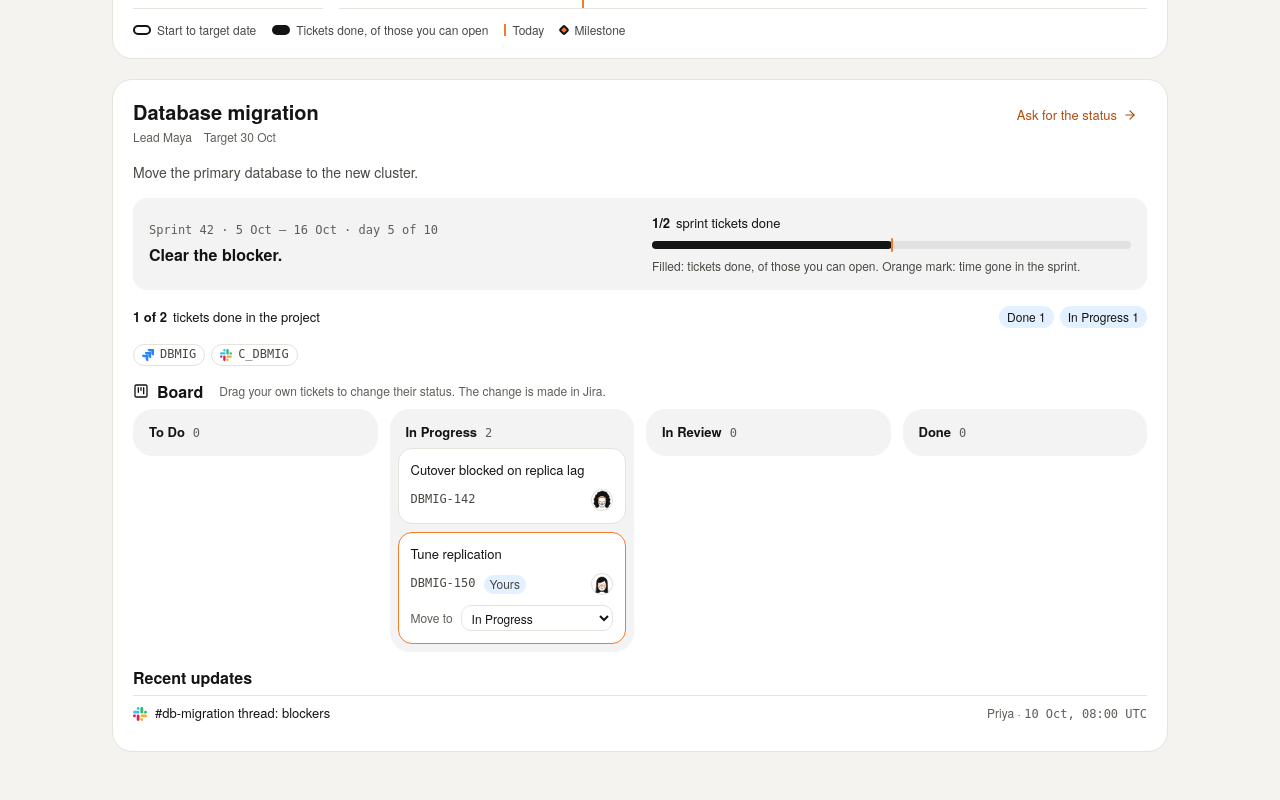
it: puts the card back and says why when the move is refused
(page scrolled)
Select "Done" in the dropdown named "Move DBMIG-150 to" at point(537, 618), box 461,605 -> 613,631
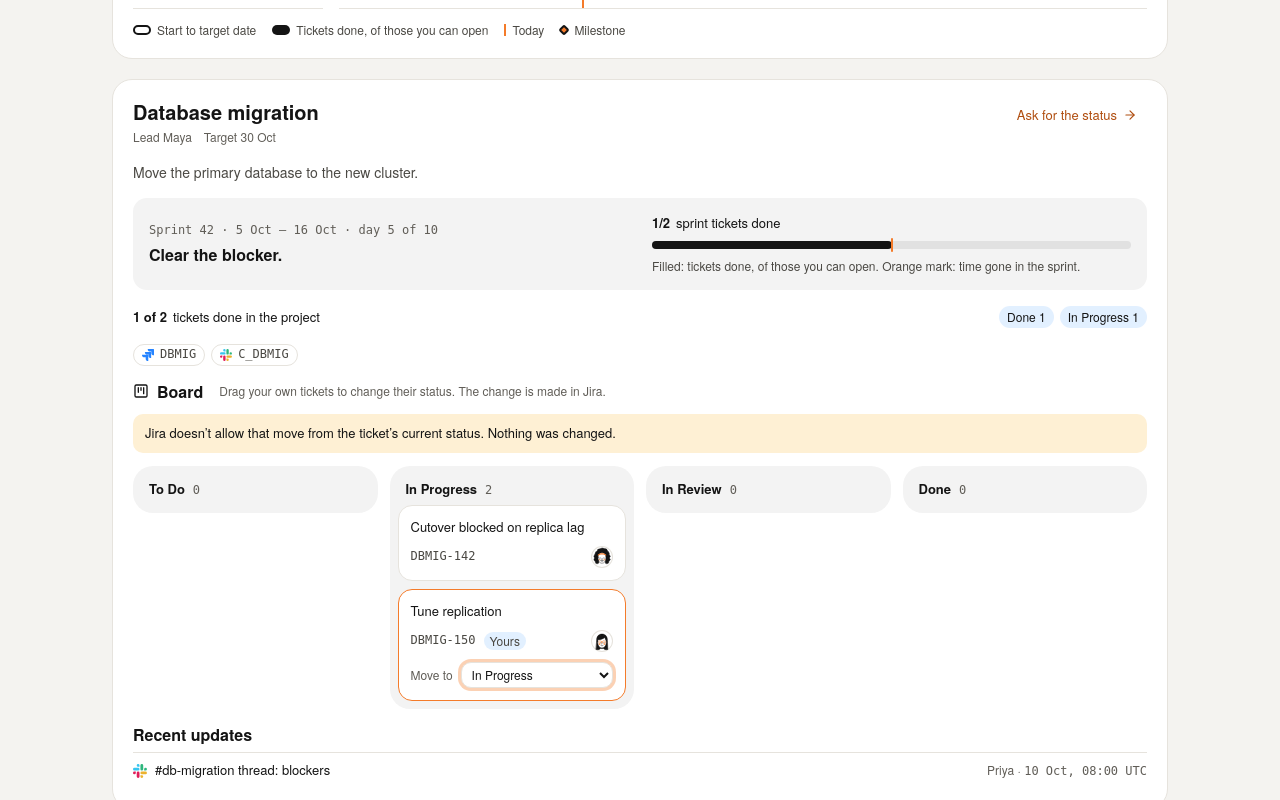
Expected: the link "Tune replication" is shown, 410,601 -> 502,620
Result: the message shows "Jira doesn’t allow that move" at 145,423 -> 616,442
